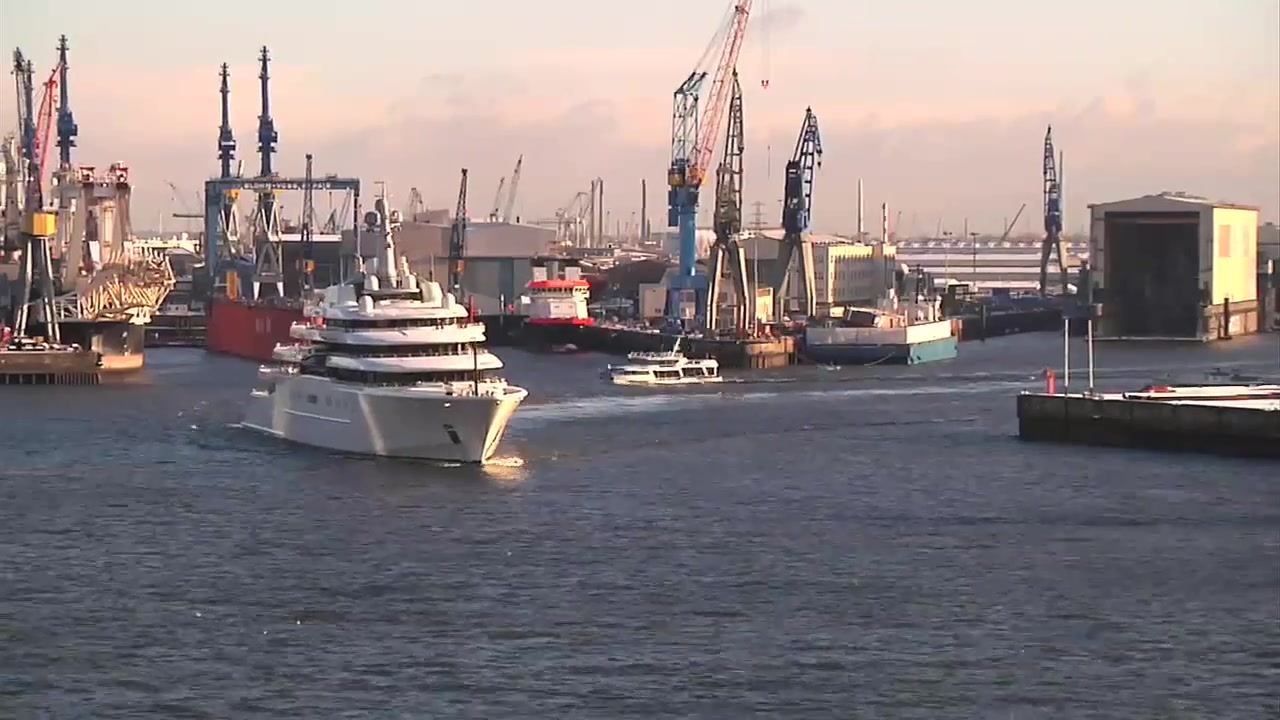boat: (241, 181, 530, 467)
